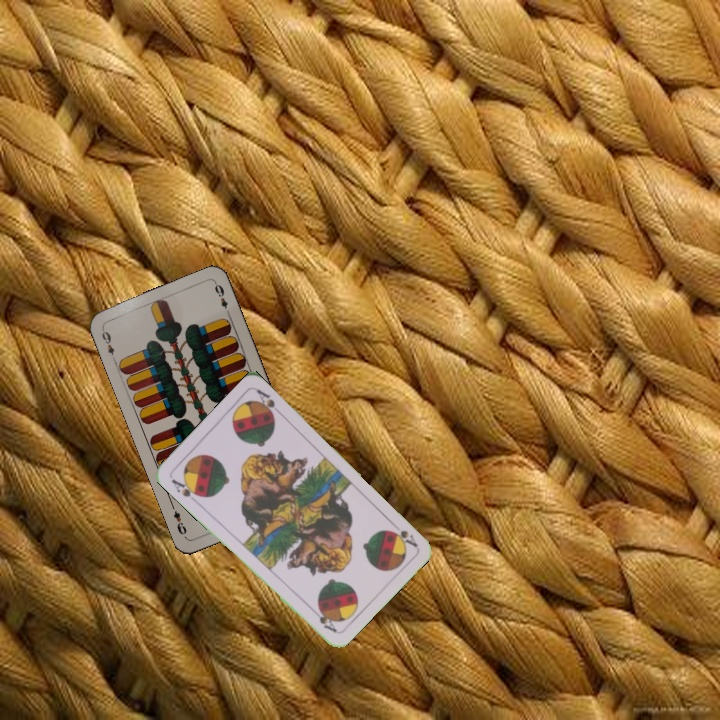E9: (97, 324, 118, 364)
SA: (387, 518, 420, 550), (167, 475, 204, 500)
